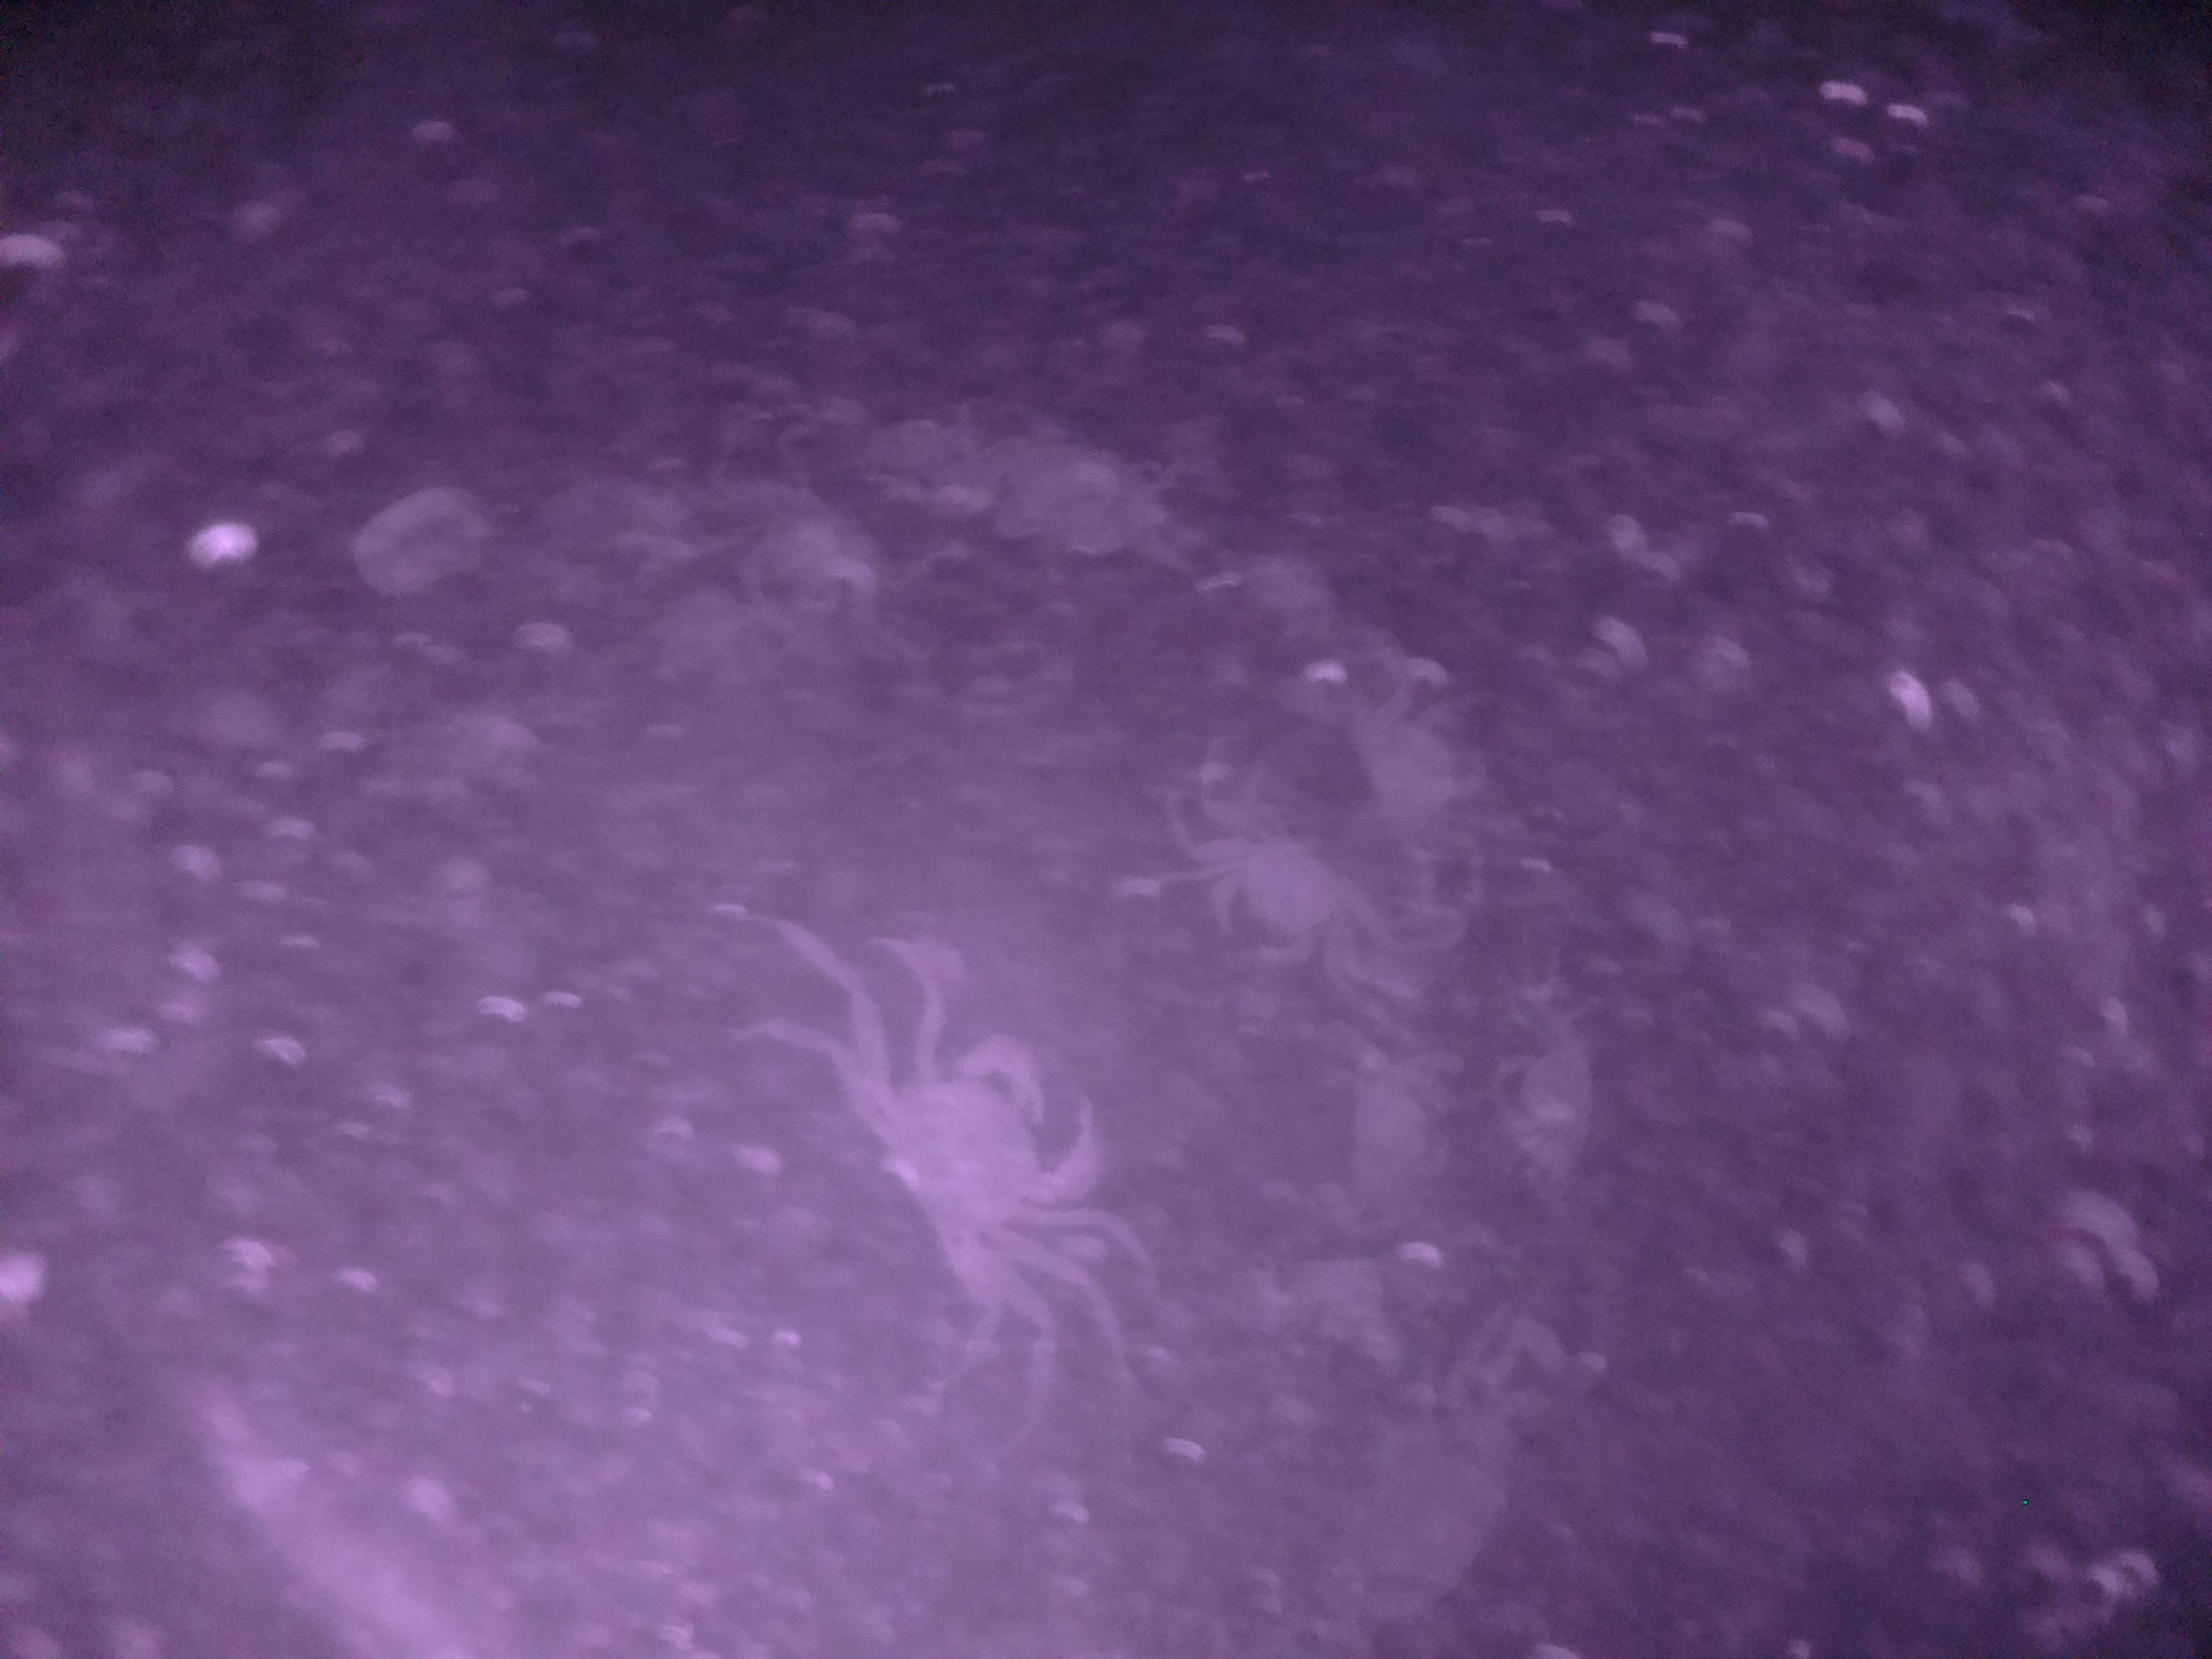Crab: (883, 986, 1122, 1368), (1329, 673, 1514, 922), (1197, 809, 1374, 986), (1475, 1000, 1616, 1201)
